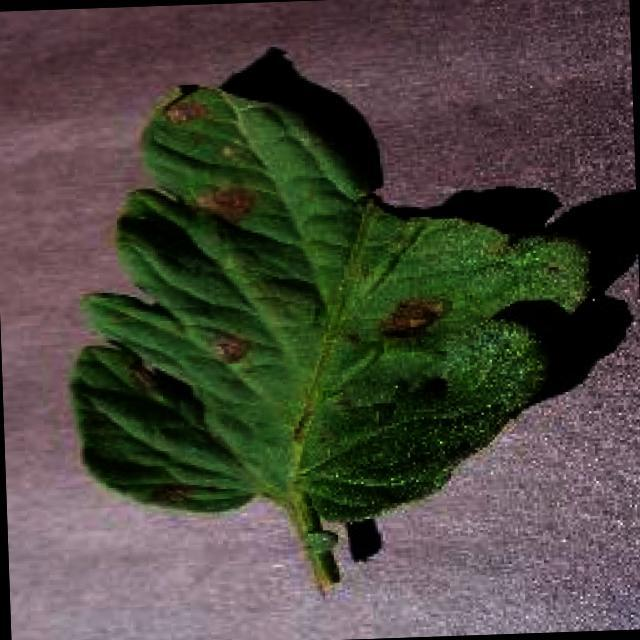Tomato Early blight leaf: (56, 65, 604, 532)
